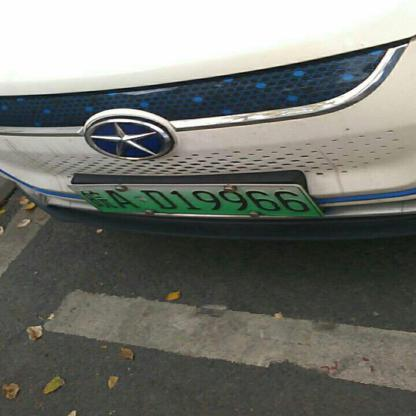lp: (66, 184, 324, 216)
